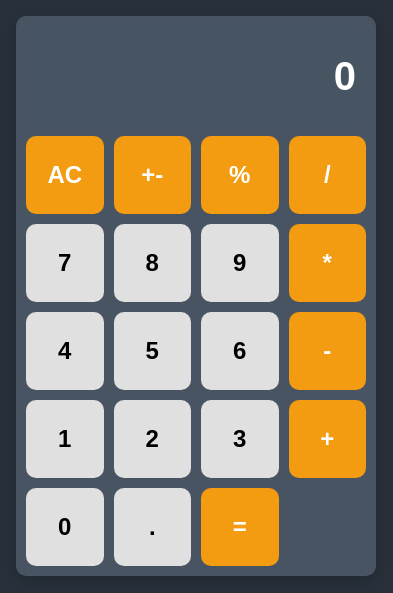
Test: Calculator App › respects the order of operations (PEMDAS)
Step 1. Click the button "2" → (152, 439), box [114,400,191,478]
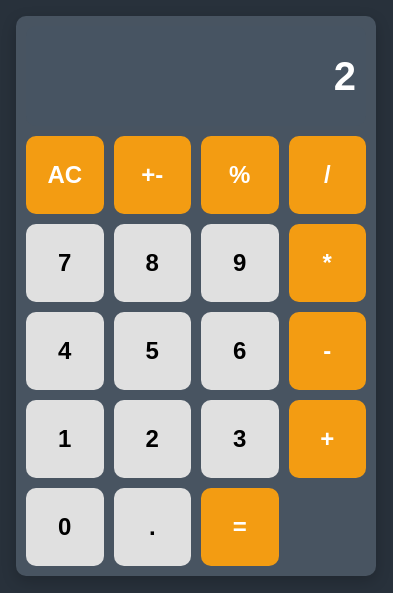
Step 2. Click the button "+" → (327, 439), box [288,400,366,478]
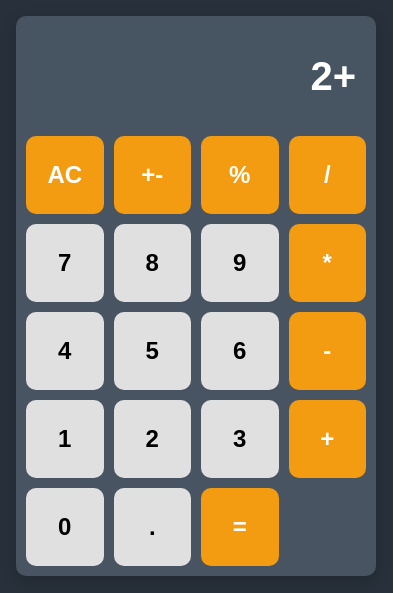
Step 3. Click the button "3" → (240, 439), box [201,400,278,478]
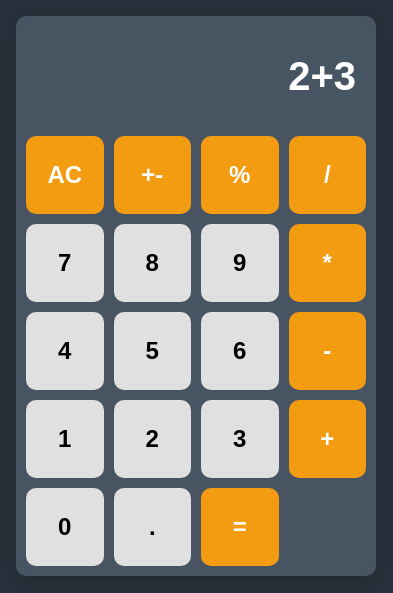
Step 4. Click the button "*" → (327, 263), box [288,224,366,302]
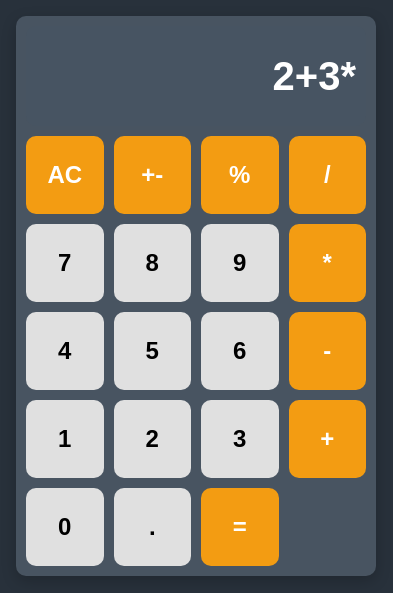
Step 5. Click the button "4" → (65, 351), box [26,312,104,390]
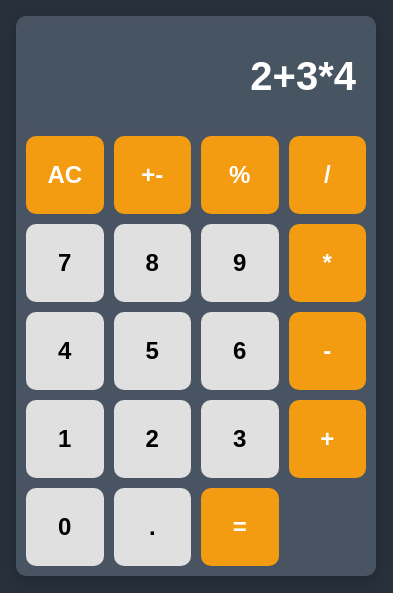
Step 6. Click the button "=" → (240, 527), box [201,488,278,566]
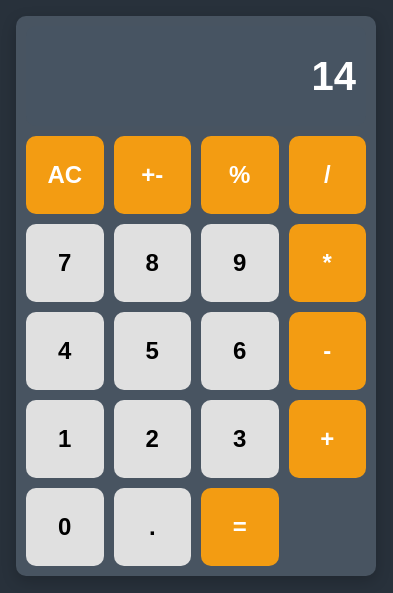
Now the text "14" is shown, box [26,26,366,126]
